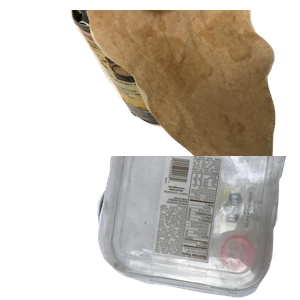glass: (95, 164, 286, 300)
metal: (68, 10, 265, 131)
plastic: (95, 156, 300, 300)
trash: (84, 10, 300, 190)
